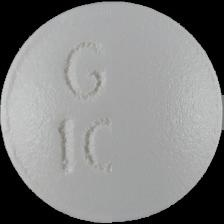0615-3585: (0, 0, 224, 224)
